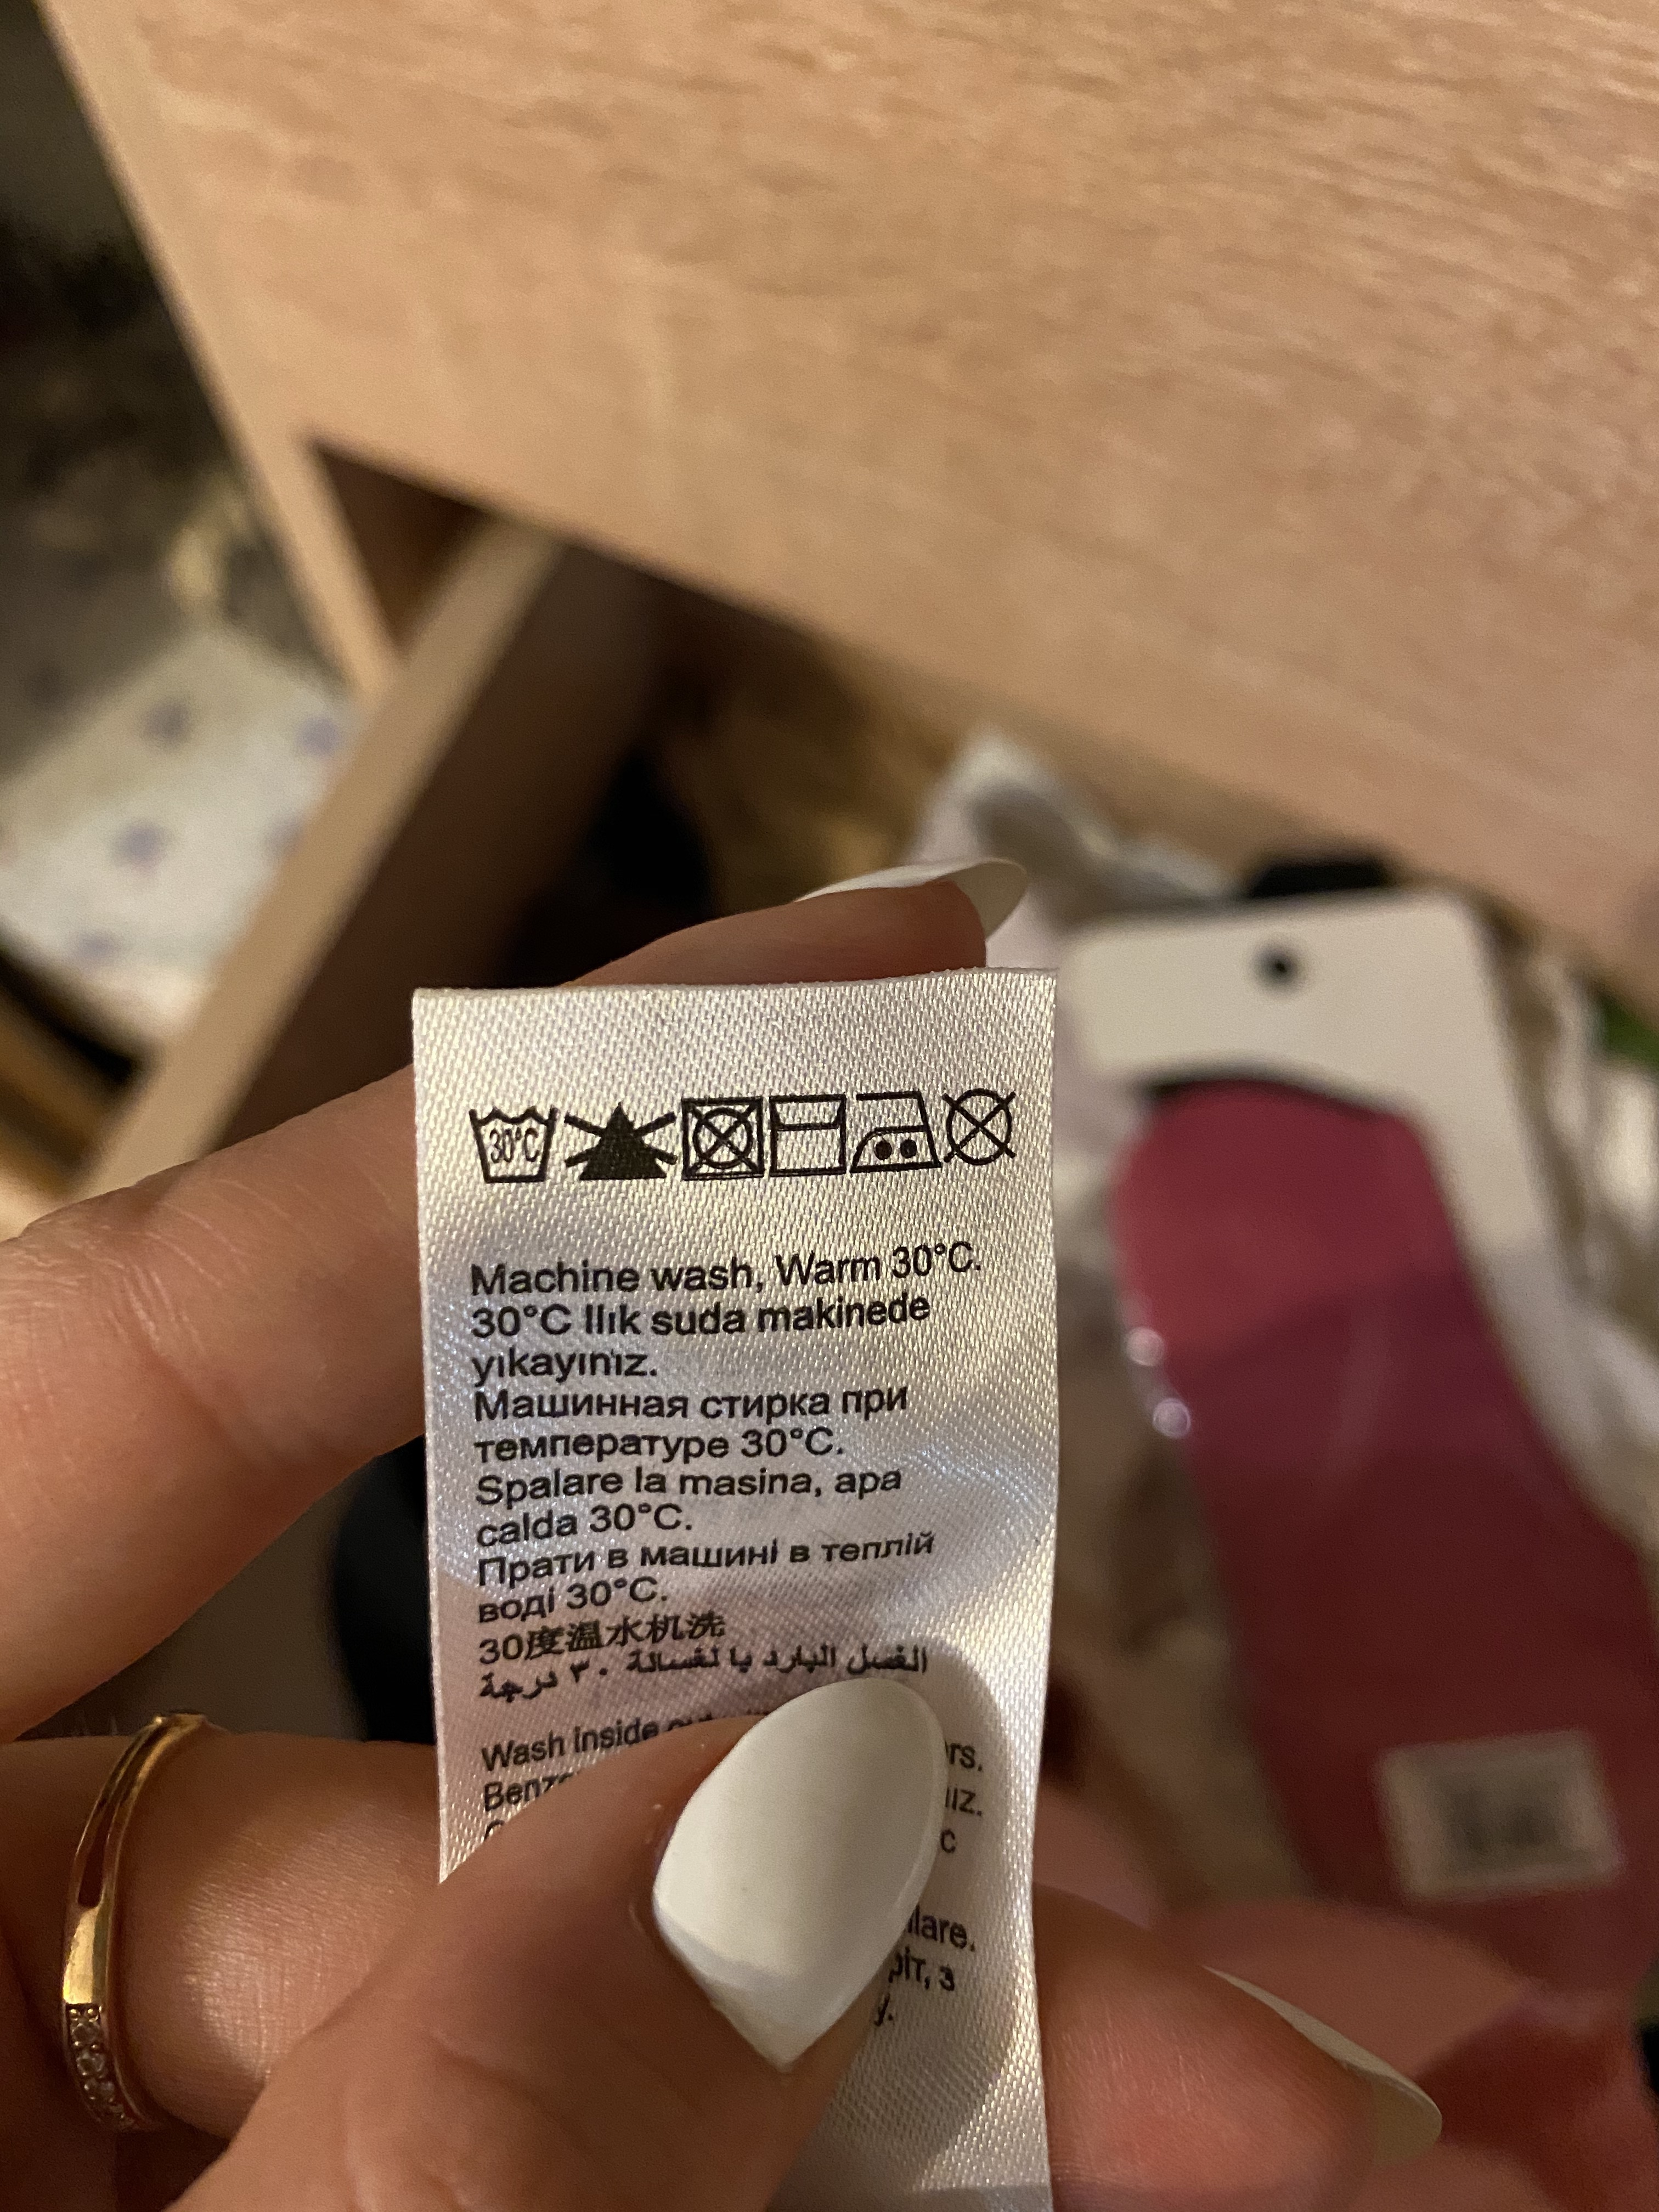do_not_bleach: (563, 1096, 680, 1184)
do_not_dry_clean: (939, 1083, 1023, 1169)
do_not_tumble_drying: (681, 1090, 767, 1186)
ironing_at_med_temp: (847, 1087, 941, 1176)
line_dry: (765, 1090, 849, 1183)
wash_at_or_below_30: (467, 1103, 561, 1190)
